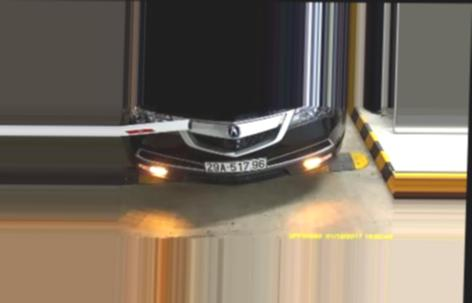License_Plate: (202, 157, 268, 175)
